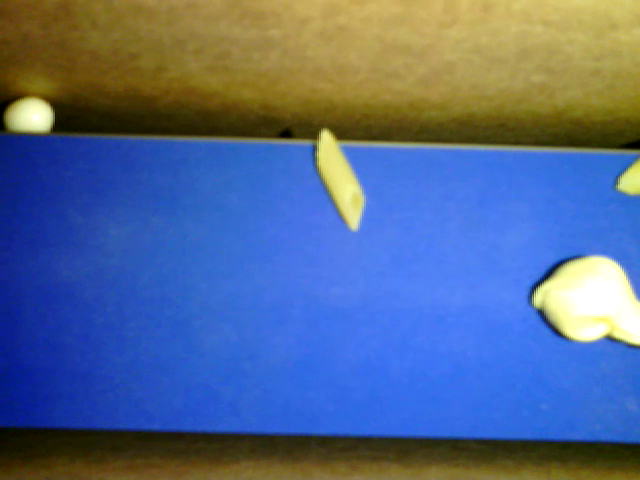penne: (315, 128, 364, 231)
tortellini: (531, 254, 639, 344)
